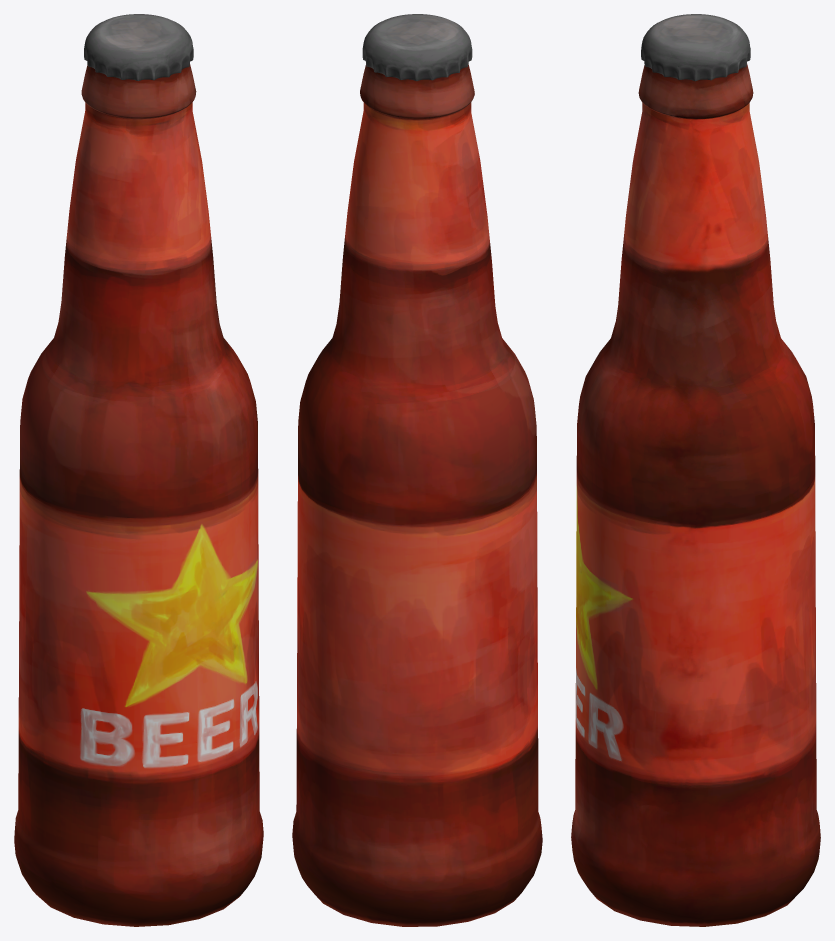
Rendered from beer.fbx.
3 renders of one model, left to right at view 1: azimuth 30°, elevation 25°; view 2: azimuth 150°, elevation 25°; view 3: azimuth 270°, elevation 25°, orthographic.
Visible parts, largest first — view 1: node_id30; view 2: node_id30; view 3: node_id30.
Boxes of the visible parts, left/top/right/bottom form: node_id30: left=14, top=14, right=263, bottom=926; node_id30: left=292, top=14, right=542, bottom=926; node_id30: left=571, top=14, right=820, bottom=926.
Size of the model in its own units: 0.1363 by 0.512 by 0.1363.
1 material, 1 textured.
